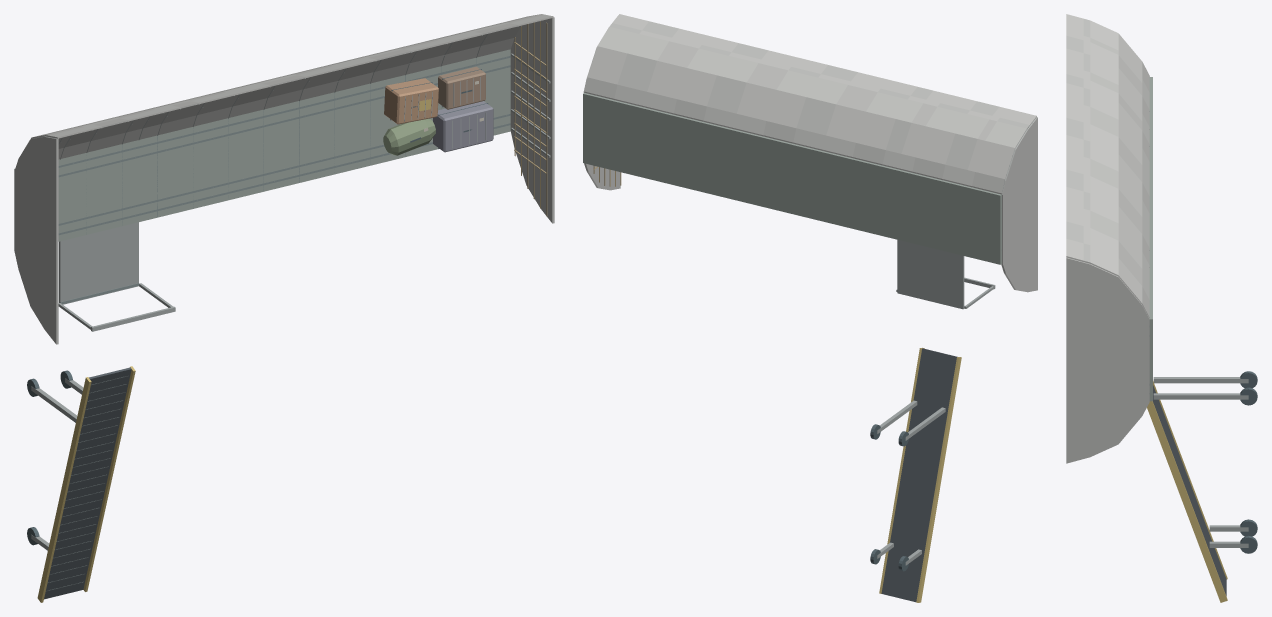
File: presentation_cutaway.glb
The picture shows the model from 3 angles, left to right: view 1: azimuth 30°, elevation 25°; view 2: azimuth 150°, elevation 25°; view 3: azimuth 270°, elevation 25°; orthographic projection. The views are drawn at different scales.
Parts seen in each view (by area): view 1: nb_hold_cutaway_load_floor, belt_loader_belt, nb_hold_cutaway_bulkhead_0, nb_hold_cutaway_bulkhead_7.7, nb_hold_cutaway_entry_pocket_floor, bag_hard_32_case, bag_fragile_20_case, bag_hard_20_case, belt_loader_edge_r, bag_duffel_23_soft_rigid_proxy, belt_loader_edge_l, nb_hold_cutaway_flush_rail_0.5 (+3 smaller); view 2: nb_hold_cutaway_load_floor, belt_loader_belt, nb_hold_cutaway_bulkhead_0, nb_hold_cutaway_entry_pocket_floor, belt_loader_edge_r, nb_hold_cutaway_liner_1_0_1, nb_hold_cutaway_liner_1_12_1, nb_hold_cutaway_liner_1_6_1, nb_hold_cutaway_liner_1_8_1, nb_hold_cutaway_liner_1_9_1, nb_hold_cutaway_liner_1_11_1, nb_hold_cutaway_liner_1_15_1 (+20 smaller); view 3: nb_hold_cutaway_bulkhead_7.7, belt_loader_edge_l, belt_loader_belt, nb_hold_cutaway_load_floor, belt_loader_leg_1.56_-3.4000000000000004, belt_loader_leg_1.04_-3.4000000000000004, nb_hold_cutaway_liner_1_15_2, nb_hold_cutaway_liner_1_6_2, nb_hold_cutaway_liner_1_11_2, nb_hold_cutaway_liner_1_3_2, nb_hold_cutaway_liner_1_10_2, nb_hold_cutaway_liner_1_0_2 (+34 smaller).
Boxes of the visible parts, box(x1,y1,x2,y2) form: nb_hold_cutaway_load_floor: box(14, 49, 510, 250); belt_loader_belt: box(44, 367, 131, 599); nb_hold_cutaway_bulkhead_0: box(14, 136, 58, 344); nb_hold_cutaway_bulkhead_7.7: box(510, 17, 554, 223); nb_hold_cutaway_entry_pocket_floor: box(59, 222, 138, 304); bag_hard_32_case: box(433, 101, 493, 152); bag_fragile_20_case: box(384, 78, 438, 124); bag_hard_20_case: box(438, 66, 485, 109); belt_loader_edge_r: box(37, 377, 91, 602); bag_duffel_23_soft_rigid_proxy: box(383, 118, 435, 155); belt_loader_edge_l: box(83, 366, 135, 591); nb_hold_cutaway_flush_rail_0.5: box(58, 56, 510, 167); nb_hold_cutaway_load_floor: box(583, 93, 1001, 264); belt_loader_belt: box(881, 348, 957, 602); nb_hold_cutaway_bulkhead_0: box(1001, 117, 1037, 292); nb_hold_cutaway_entry_pocket_floor: box(897, 240, 964, 309); belt_loader_edge_r: box(916, 357, 961, 602); nb_hold_cutaway_liner_1_0_1: box(975, 141, 1014, 179); nb_hold_cutaway_liner_1_12_1: box(677, 68, 716, 106); nb_hold_cutaway_liner_1_6_1: box(856, 111, 895, 149); nb_hold_cutaway_liner_1_8_1: box(796, 97, 835, 135); nb_hold_cutaway_liner_1_9_1: box(766, 90, 806, 127); nb_hold_cutaway_liner_1_11_1: box(707, 75, 746, 113); nb_hold_cutaway_liner_1_15_1: box(588, 46, 627, 84); nb_hold_cutaway_bulkhead_7.7: box(1066, 257, 1149, 463); belt_loader_edge_l: box(1147, 401, 1227, 602); belt_loader_belt: box(1153, 385, 1226, 596); nb_hold_cutaway_load_floor: box(1149, 77, 1152, 401); belt_loader_leg_1.56_-3.4000000000000004: box(1153, 393, 1248, 399); belt_loader_leg_1.04_-3.4000000000000004: box(1153, 377, 1248, 383); nb_hold_cutaway_liner_1_15_2: box(1090, 245, 1118, 276); nb_hold_cutaway_liner_1_6_2: box(1090, 89, 1118, 119); nb_hold_cutaway_liner_1_11_2: box(1090, 176, 1118, 205); nb_hold_cutaway_liner_1_3_2: box(1090, 55, 1118, 84); nb_hold_cutaway_liner_1_10_2: box(1090, 159, 1118, 188); nb_hold_cutaway_liner_1_0_2: box(1090, 20, 1118, 50).
Bounding box in the file's own units: 7.74 × 7.96 × 2.57.
